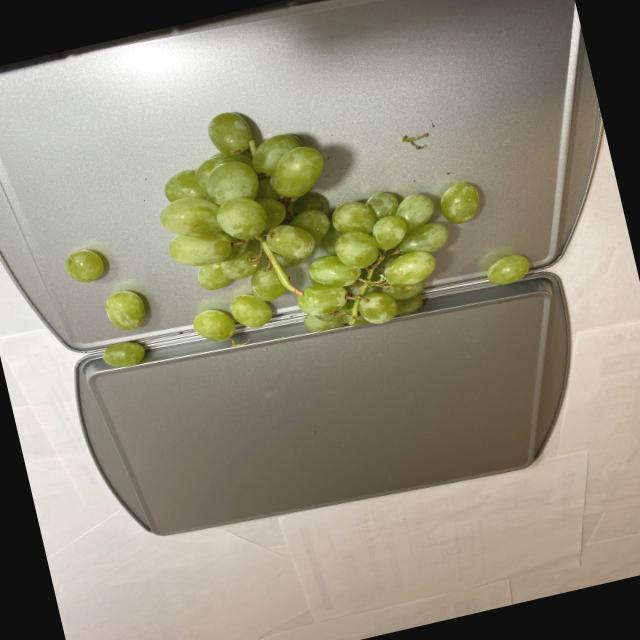grapes: (38, 50, 544, 392)
